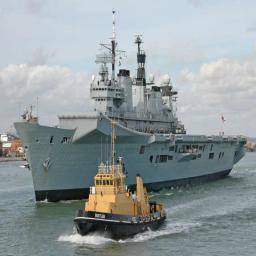Portanaves: (12, 8, 249, 208)
